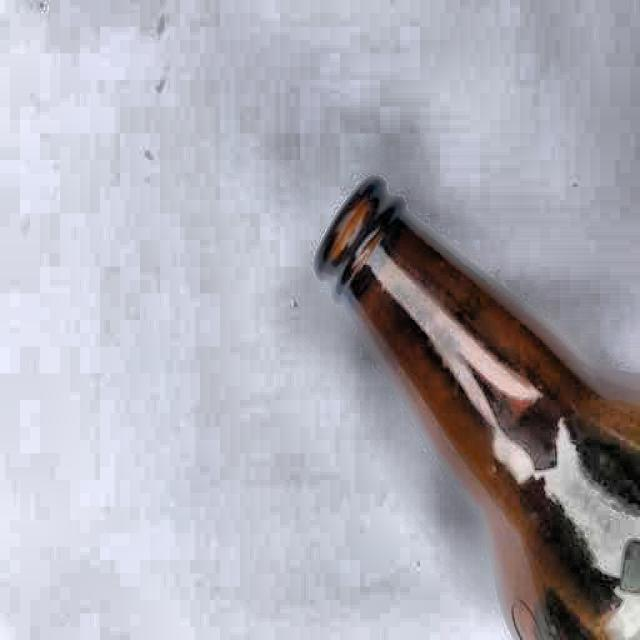glass: (309, 177, 640, 638)
